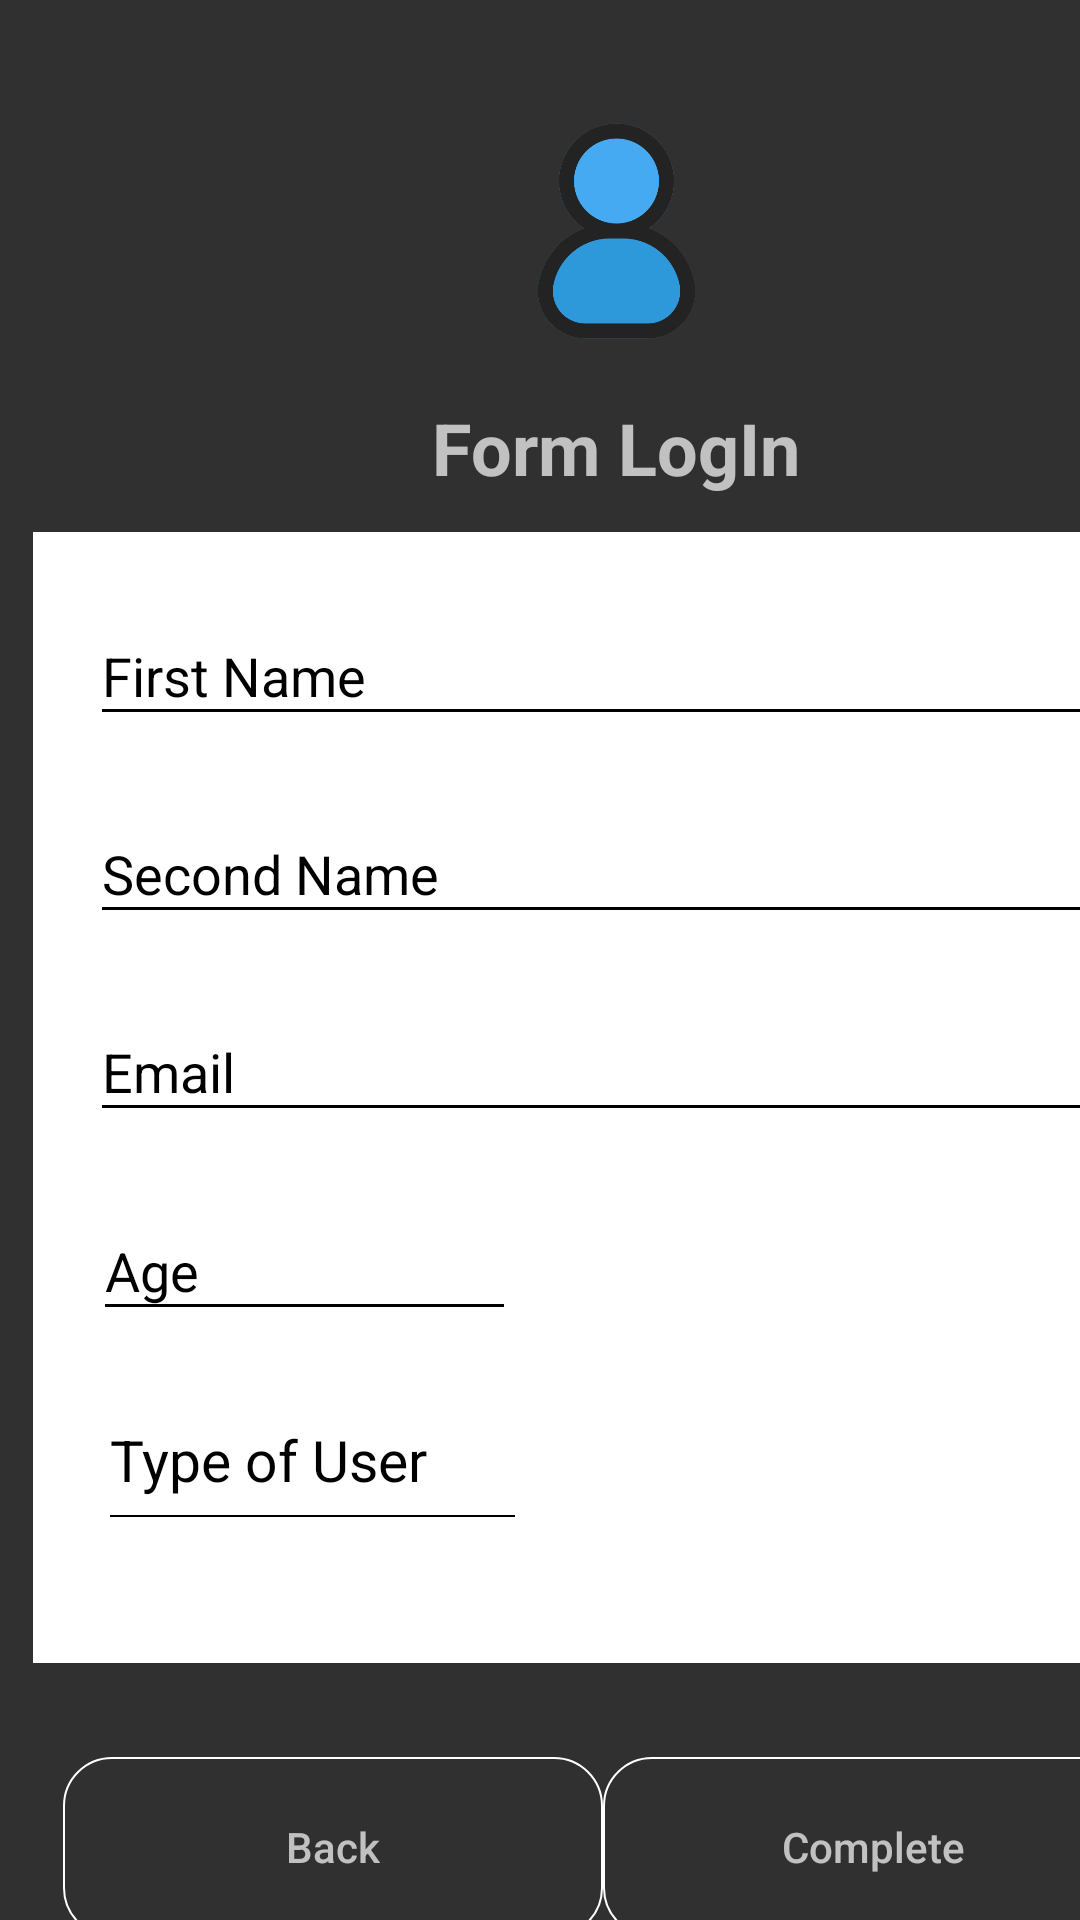

Icons on this 1080w x 1920h Android screen, each with its box as bbox=[x1, y1, x2, y2]:
cuenta: bbox=[538, 123, 695, 339]
